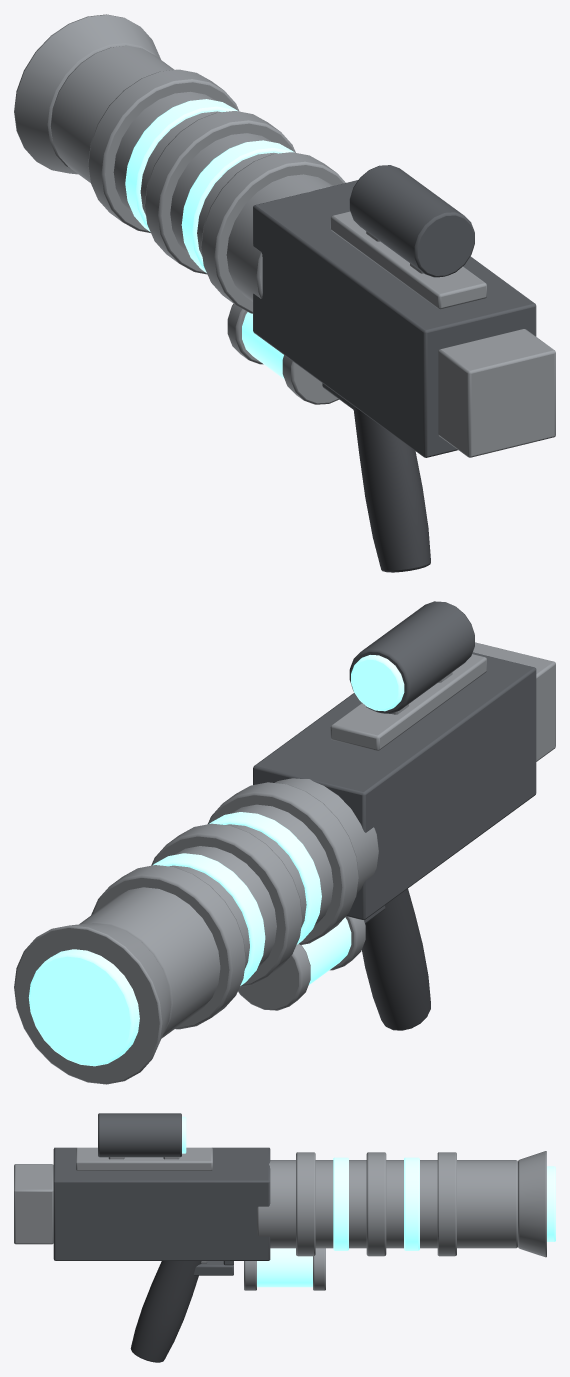
The model's file is laser_rifle.glb.
The picture shows the model from 3 angles, top to bottom: view 1: azimuth 30°, elevation 25°; view 2: azimuth 150°, elevation 25°; view 3: azimuth 270°, elevation 25°; orthographic projection. The views are drawn at different scales.
Visible parts, largest first — view 1: LaserRifle; view 2: LaserRifle; view 3: LaserRifle.
Boxes of the visible parts, x1,y1,x2,y2 form: LaserRifle: (14,14,555,572); LaserRifle: (14,601,555,1084); LaserRifle: (14,1113,555,1362).
Size of the model in its own units: 0.1209 by 0.3052 by 0.613.
